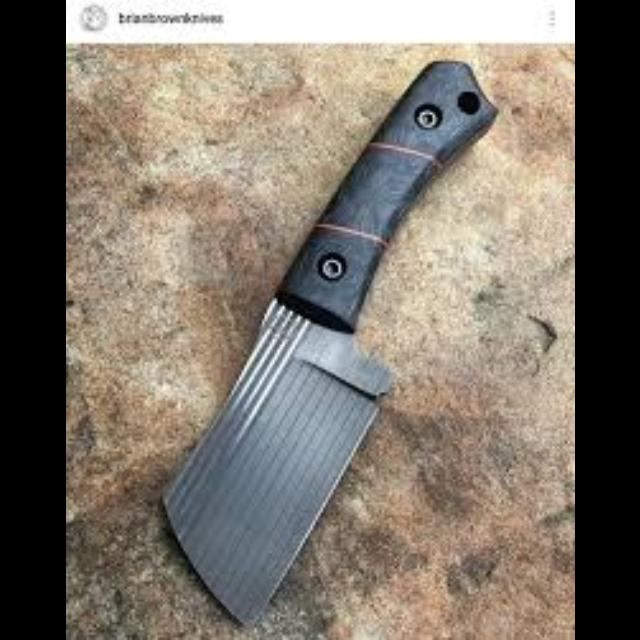Knife: (157, 59, 498, 627)
